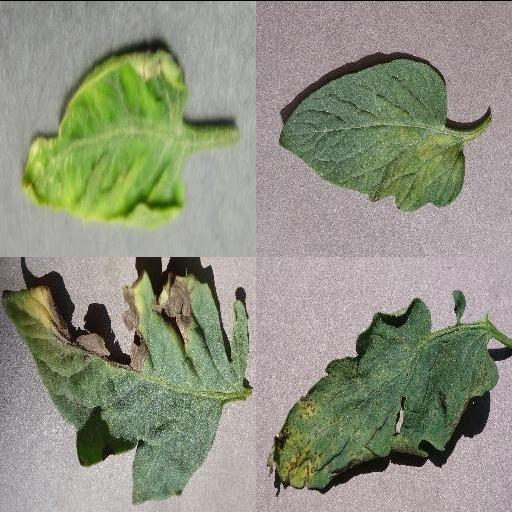Early Blight: (4, 273, 250, 502)
Septoria: (266, 288, 498, 489)
Spider Mites: (279, 57, 465, 211)
Yellow Leaf Curl Virus: (22, 48, 190, 228)
